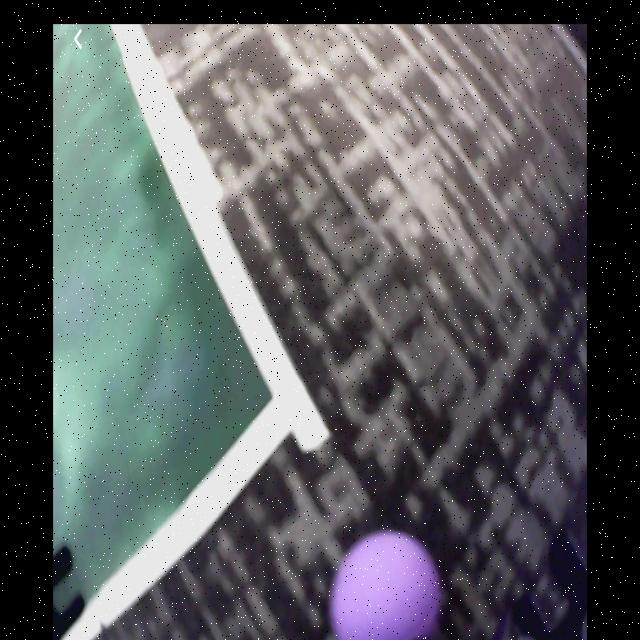ball: (328, 531, 453, 639)
